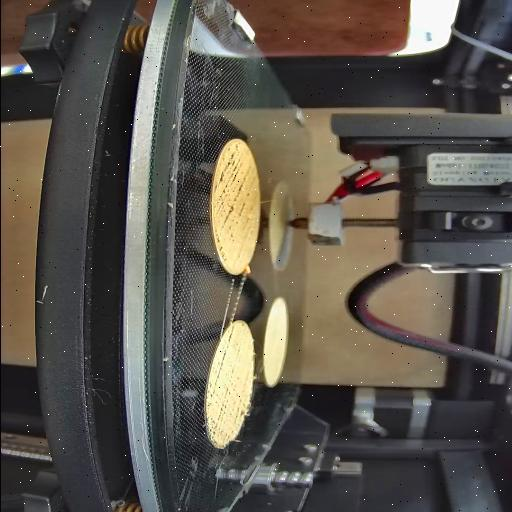under_extrusion: (214, 138, 252, 262), (206, 348, 251, 444), (223, 324, 243, 346)
